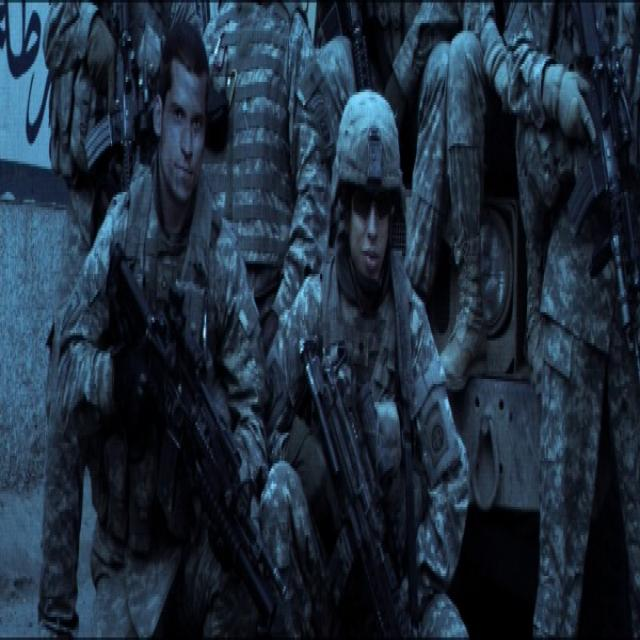rifle: (107, 245, 289, 633), (298, 325, 418, 640), (556, 1, 637, 344)
